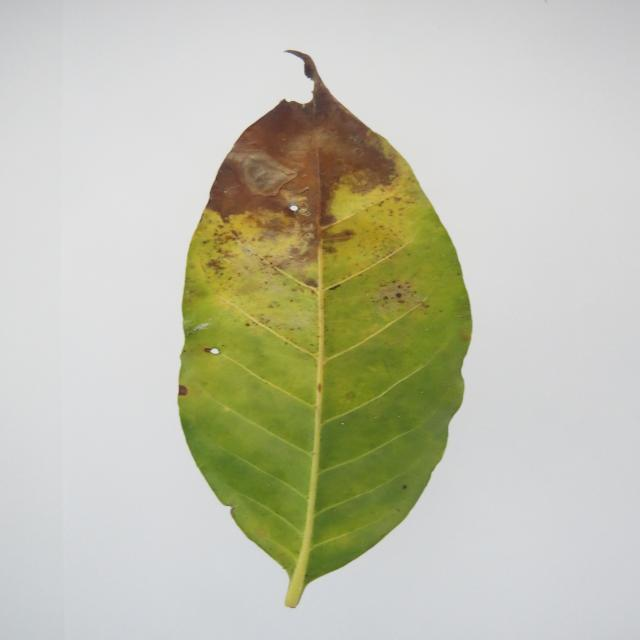DeficienciaNutricional-Potasio: (178, 50, 472, 608)
